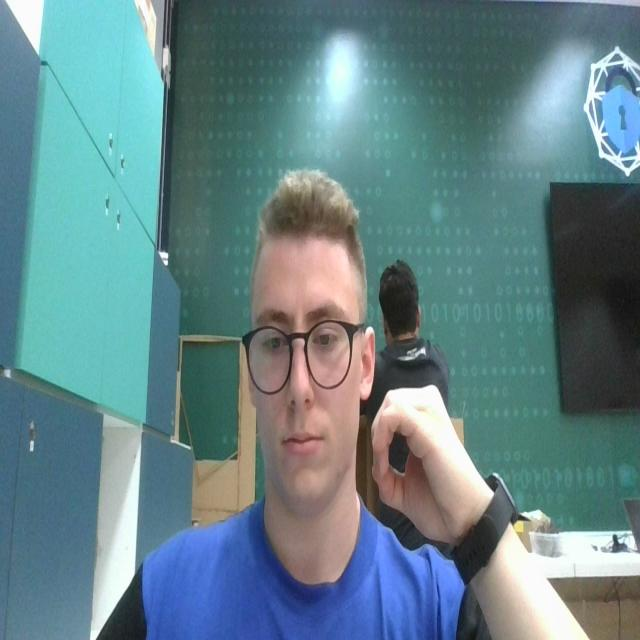O: (368, 380, 478, 540)
